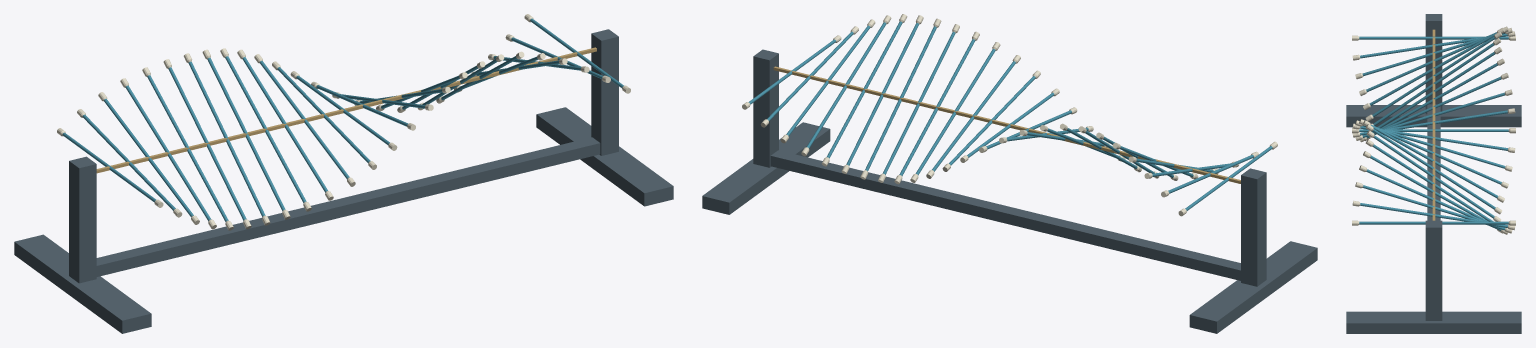
3 renders of one model, left to right at view 1: azimuth 30°, elevation 25°; view 2: azimuth 150°, elevation 25°; view 3: azimuth 270°, elevation 25°, orthographic. The views are drawn at different scales.
Parts seen in each view (by area): view 1: WholeLowLongFrameTie, LeftWholeCrossFoot, RightWholeCrossFoot, LeftWholeEndPedestal, RightWholeEndPedestal, WholeContinuousCentreShaft, WholeTransverseRod07, WholeTransverseRod08, WholeTransverseRod06, WholeTransverseRod05, WholeTransverseRod09, WholeTransverseRod04 (+9 smaller); view 2: WholeLowLongFrameTie, LeftWholeCrossFoot, RightWholeCrossFoot, LeftWholeEndPedestal, RightWholeEndPedestal, WholeContinuousCentreShaft, WholeTransverseRod19, WholeTransverseRod20, WholeTransverseRod18, WholeTransverseRod17, WholeTransverseRod21, WholeTransverseRod22 (+8 smaller); view 3: RightWholeCrossFoot, LeftWholeCrossFoot, RightWholeEndPedestal, LeftWholeEndPedestal, WholeLowLongFrameTie, WholeContinuousCentreShaft, WholeTransverseRod25, WholeTransverseRod01, WholeTransverseRod06, WholeTransverseRod18, WholeTransverseRod19, WholeTransverseRod05 (+19 smaller).
Part boxes in pixels (bbox=[...]): WholeLowLongFrameTie: bbox=[96, 137, 600, 276]; LeftWholeCrossFoot: bbox=[14, 234, 151, 333]; RightWholeCrossFoot: bbox=[536, 107, 673, 206]; LeftWholeEndPedestal: bbox=[69, 156, 96, 283]; RightWholeEndPedestal: bbox=[591, 29, 618, 155]; WholeContinuousCentreShaft: bbox=[96, 47, 596, 173]; WholeTransverseRod07: bbox=[183, 53, 270, 225]; WholeTransverseRod08: bbox=[202, 49, 290, 219]; WholeTransverseRod06: bbox=[163, 59, 251, 229]; WholeTransverseRod05: bbox=[142, 67, 233, 230]; WholeTransverseRod09: bbox=[220, 48, 311, 211]; WholeTransverseRod04: bbox=[120, 78, 216, 229]; WholeLowLongFrameTie: bbox=[770, 150, 1240, 280]; LeftWholeCrossFoot: bbox=[1189, 241, 1317, 333]; RightWholeCrossFoot: bbox=[702, 122, 830, 214]; LeftWholeEndPedestal: bbox=[1241, 168, 1266, 286]; RightWholeEndPedestal: bbox=[753, 49, 778, 167]; WholeContinuousCentreShaft: bbox=[773, 66, 1240, 183]; WholeTransverseRod19: bbox=[860, 18, 941, 179]; WholeTransverseRod20: bbox=[841, 15, 923, 173]; WholeTransverseRod18: bbox=[878, 24, 959, 182]; WholeTransverseRod17: bbox=[894, 31, 979, 184]; WholeTransverseRod21: bbox=[821, 14, 907, 166]; WholeTransverseRod22: bbox=[801, 15, 891, 156]; RightWholeCrossFoot: bbox=[1346, 311, 1521, 333]; LeftWholeCrossFoot: bbox=[1346, 105, 1521, 127]; RightWholeEndPedestal: bbox=[1425, 220, 1442, 320]; LeftWholeEndPedestal: bbox=[1425, 14, 1442, 114]; WholeLowLongFrameTie: bbox=[1427, 104, 1440, 220]; WholeContinuousCentreShaft: bbox=[1432, 29, 1435, 220]; WholeTransverseRod25: bbox=[1352, 220, 1515, 225]; WholeTransverseRod01: bbox=[1352, 35, 1515, 40]; WholeTransverseRod06: bbox=[1365, 31, 1502, 121]; WholeTransverseRod18: bbox=[1365, 124, 1502, 214]; WholeTransverseRod19: bbox=[1366, 130, 1501, 221]; WholeTransverseRod05: bbox=[1363, 27, 1504, 110].
Size of the model in its own units: 2.83 by 0.85 by 0.96.
